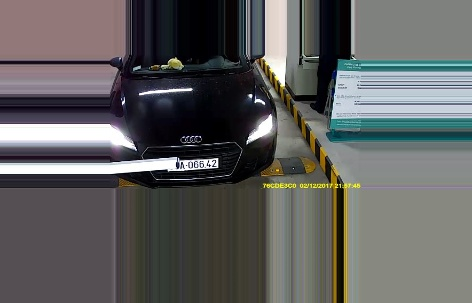plate: (170, 157, 217, 169)
